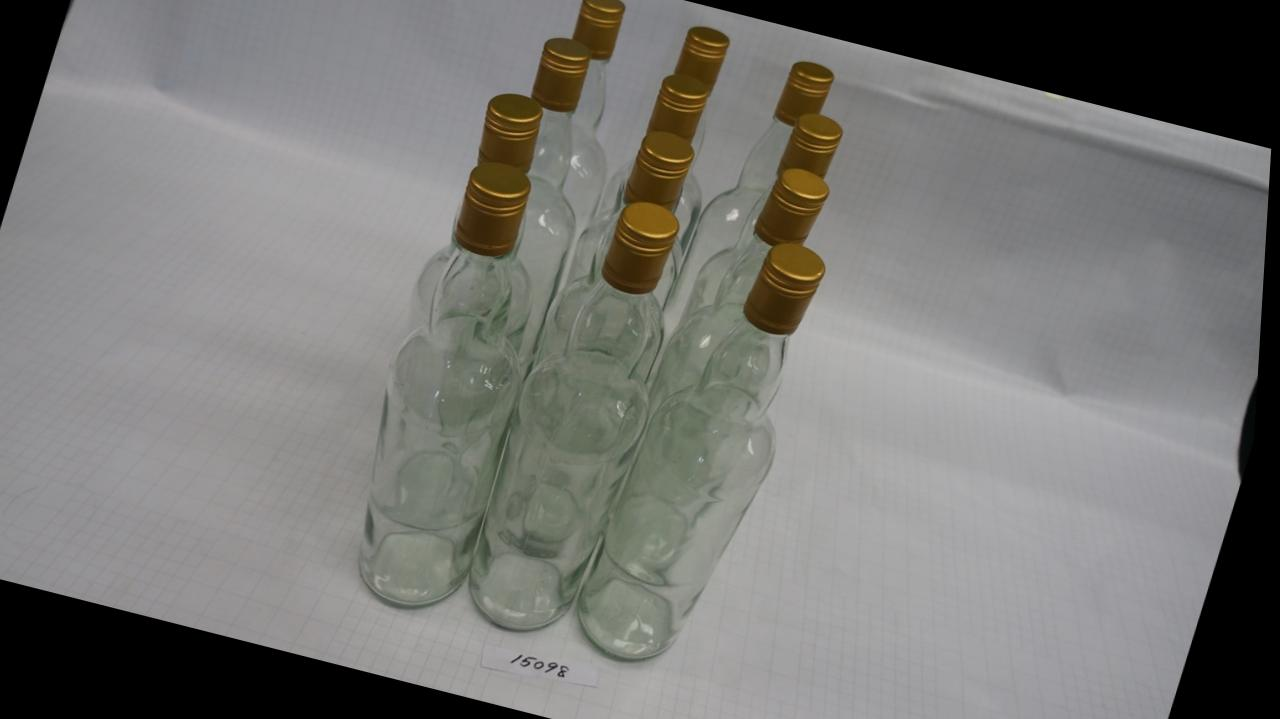glass: (359, 94, 569, 606), (577, 237, 813, 658), (469, 207, 673, 628), (624, 26, 727, 211)
